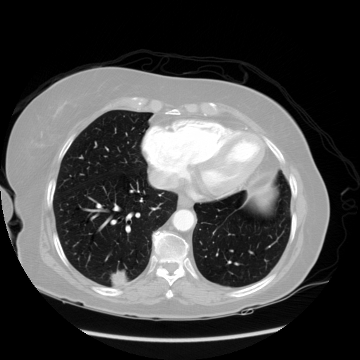nodule: (109, 268, 129, 288)
